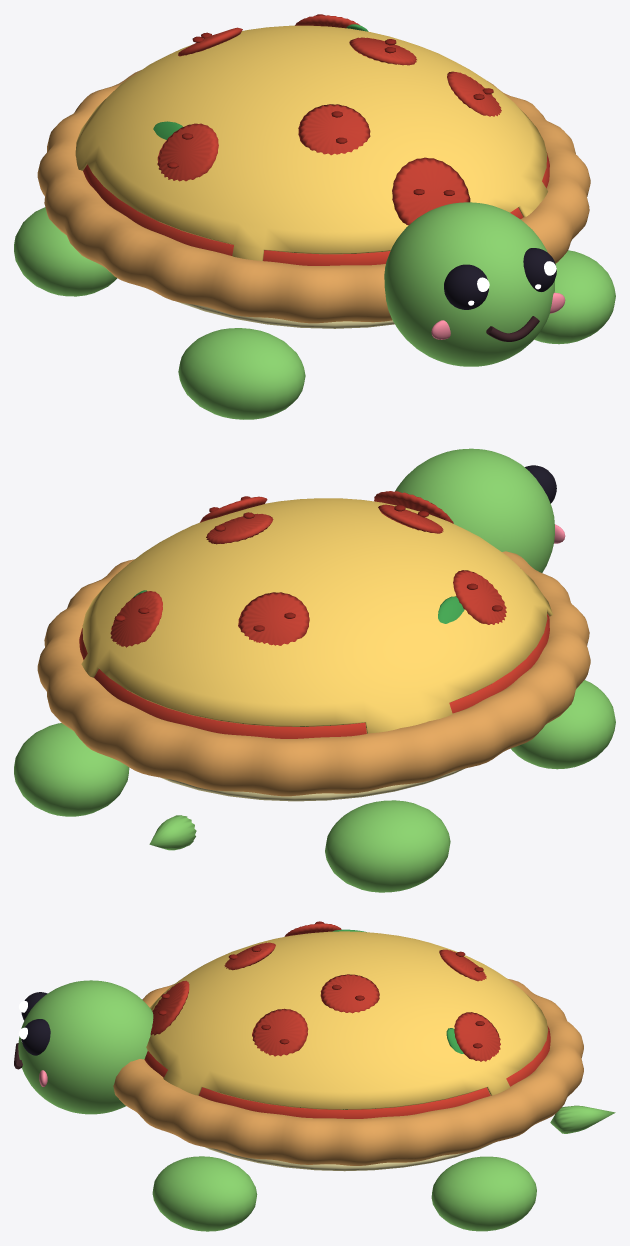
File: pilot_skilpadde_pizza.glb
3 views of the same model, one above another, from view 1: azimuth 30°, elevation 25°; view 2: azimuth 150°, elevation 25°; view 3: azimuth 270°, elevation 25° (orthographic). The views are drawn at different scales.
Parts seen in each view (by area): view 1: kropp, hode, bein_vf, bein_vb, bein_hf; view 2: kropp, hode, bein_vb, bein_hb, bein_vf, hale; view 3: kropp, hode, bein_hb, bein_hf, hale.
Boxes of the visible parts, bbox=[...] form: kropp: bbox=[37, 14, 590, 328]; hode: bbox=[384, 202, 565, 366]; bein_vf: bbox=[178, 328, 305, 419]; bein_vb: bbox=[14, 207, 117, 296]; bein_hf: bbox=[534, 250, 615, 344]; kropp: bbox=[37, 491, 590, 801]; hode: bbox=[395, 448, 565, 572]; bein_vb: bbox=[325, 800, 450, 892]; bein_hb: bbox=[14, 723, 129, 816]; bein_vf: bbox=[510, 680, 615, 769]; hale: bbox=[149, 815, 196, 850]; kropp: bbox=[113, 921, 583, 1171]; hode: bbox=[14, 980, 153, 1114]; bein_hb: bbox=[431, 1156, 536, 1231]; bein_hf: bbox=[152, 1156, 257, 1231]; hale: bbox=[550, 1105, 615, 1133].
Size of the model in its own units: 1.4 by 0.7193 by 1.9.
